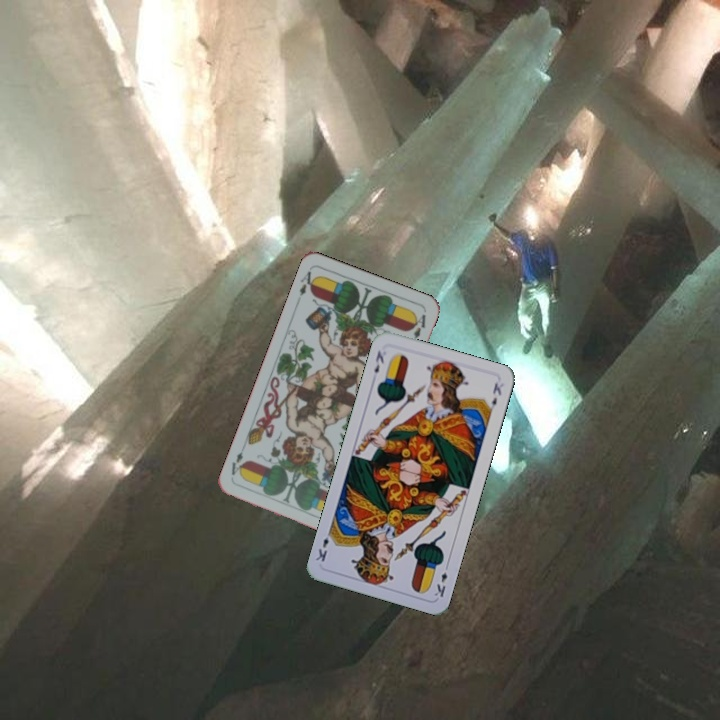EA: (293, 267, 319, 304)
EK: (430, 560, 451, 600), (370, 347, 387, 376)
